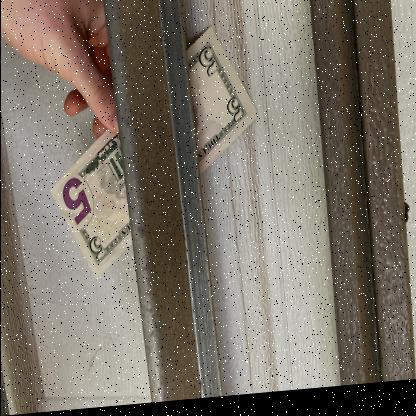five-back: (48, 30, 258, 281)
